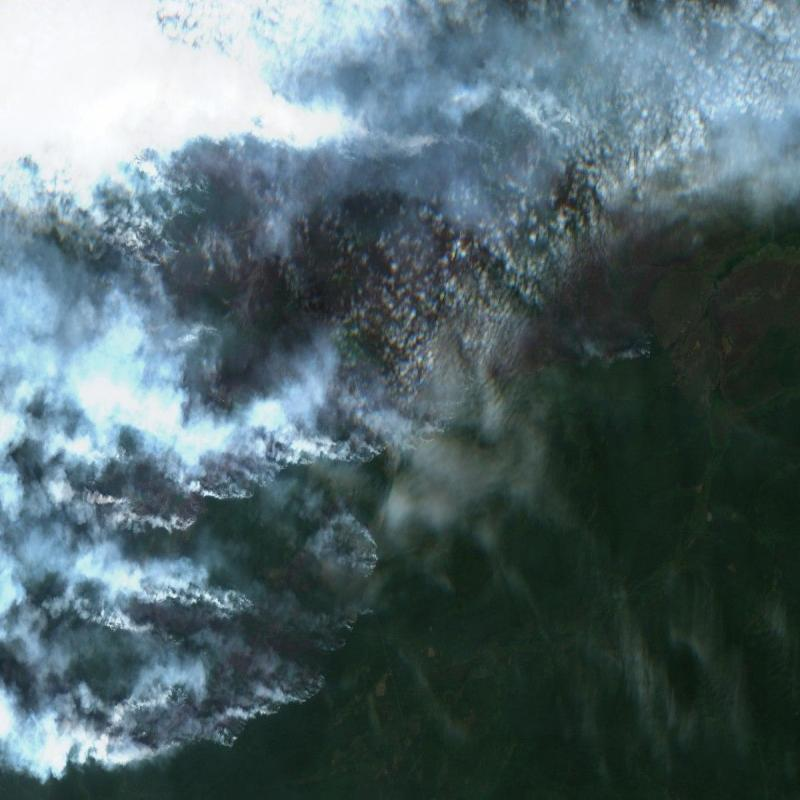fire: (88, 46, 608, 535), (92, 566, 338, 772)
